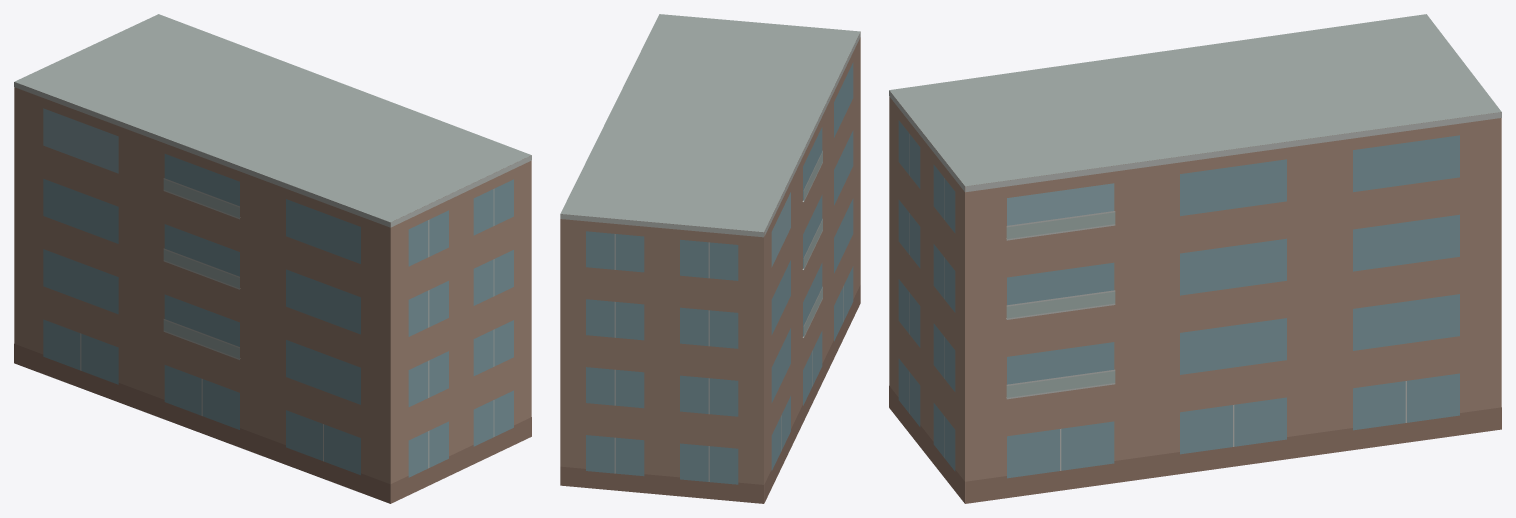
File: survey-upis-32729245.glb
3 views of the same model, side by side, from view 1: azimuth 30°, elevation 25°; view 2: azimuth 150°, elevation 25°; view 3: azimuth 270°, elevation 25° (orthographic). The views are drawn at different scales.
Parts seen in each view (by area): view 1: survey-upis-32729245.tmp; view 2: survey-upis-32729245.tmp; view 3: survey-upis-32729245.tmp.
Boxes of the visible parts, left/top/right/bottom form: survey-upis-32729245.tmp: left=14, top=14, right=531, bottom=503; survey-upis-32729245.tmp: left=560, top=14, right=860, bottom=503; survey-upis-32729245.tmp: left=889, top=14, right=1501, bottom=503.
Bounding box in the file's own units: 15.14 × 13 × 22.74.
